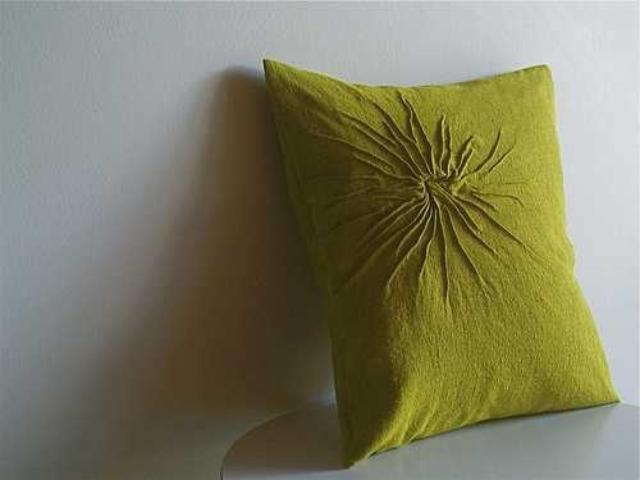pillow: (260, 55, 622, 463)
